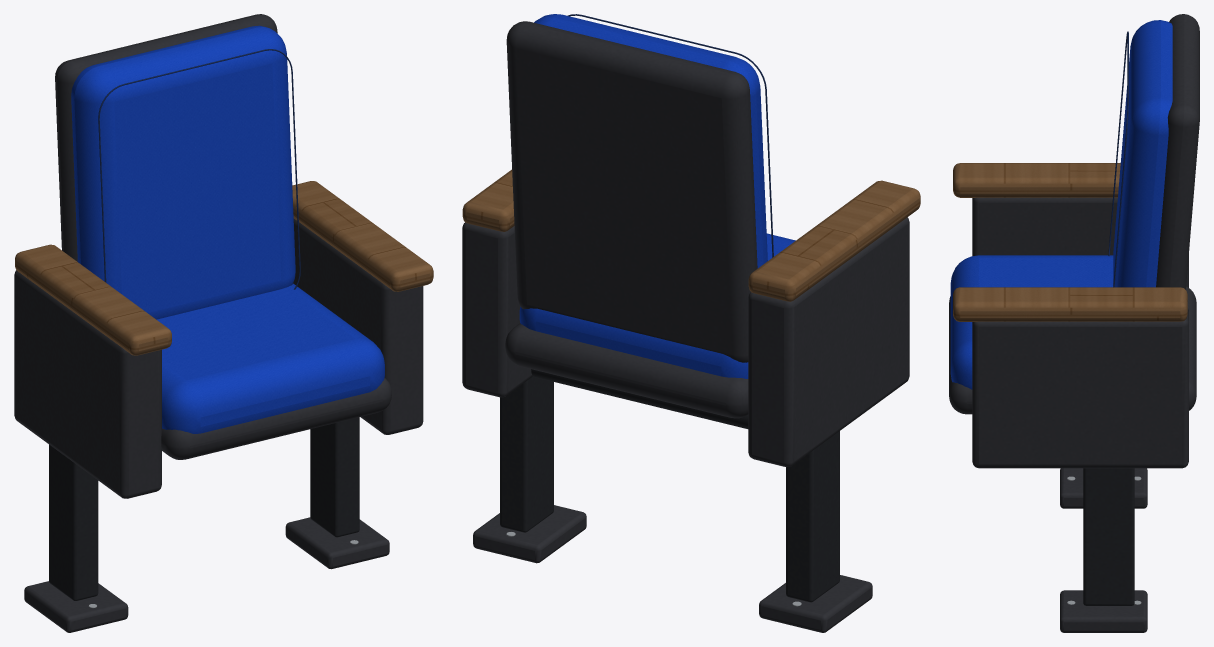
Rendered from 01_auditorium_chair.glb.
The picture shows the model from 3 angles, left to right: view 1: azimuth 30°, elevation 25°; view 2: azimuth 150°, elevation 25°; view 3: azimuth 270°, elevation 25°; orthographic projection. The views are drawn at different scales.
Visible parts, largest first — view 1: 01_auditorium_chair__blue_backrest, 01_auditorium_chair__blue_seat, 01_auditorium_chair__arm_side, 01_auditorium_chair__arm_side.001, 01_auditorium_chair__wood_arm_cap, 01_auditorium_chair__steel_pedestal, 01_auditorium_chair__wood_arm_cap.001, 01_auditorium_chair__back_shell, 01_auditorium_chair__seat_shell, 01_auditorium_chair__steel_pedestal.001, 01_auditorium_chair__mount_foot.001, 01_auditorium_chair__mount_foot (+1 smaller); view 2: 01_auditorium_chair__back_shell, 01_auditorium_chair__arm_side, 01_auditorium_chair__seat_shell, 01_auditorium_chair__arm_side.001, 01_auditorium_chair__wood_arm_cap, 01_auditorium_chair__steel_pedestal, 01_auditorium_chair__steel_pedestal.001, 01_auditorium_chair__blue_seat, 01_auditorium_chair__blue_backrest, 01_auditorium_chair__mount_foot.001, 01_auditorium_chair__mount_foot, 01_auditorium_chair__wood_arm_cap.001 (+2 smaller); view 3: 01_auditorium_chair__arm_side.001, 01_auditorium_chair__blue_backrest, 01_auditorium_chair__arm_side, 01_auditorium_chair__wood_arm_cap.001, 01_auditorium_chair__back_shell, 01_auditorium_chair__steel_pedestal.001, 01_auditorium_chair__blue_seat, 01_auditorium_chair__wood_arm_cap, 01_auditorium_chair__mount_foot.001, 01_auditorium_chair__seat_shell, 01_auditorium_chair__mount_foot, 01_auditorium_chair__backrest_seam.
Boxes of the visible parts, left/top/right/bottom form: 01_auditorium_chair__blue_backrest: left=71, top=25, right=295, bottom=319; 01_auditorium_chair__blue_seat: left=157, top=283, right=384, bottom=433; 01_auditorium_chair__arm_side: left=14, top=270, right=161, bottom=498; 01_auditorium_chair__arm_side.001: left=293, top=218, right=423, bottom=434; 01_auditorium_chair__wood_arm_cap: left=15, top=244, right=171, bottom=355; 01_auditorium_chair__steel_pedestal: left=49, top=444, right=98, bottom=600; 01_auditorium_chair__wood_arm_cap.001: left=292, top=181, right=433, bottom=291; 01_auditorium_chair__back_shell: left=55, top=14, right=277, bottom=261; 01_auditorium_chair__seat_shell: left=161, top=378, right=391, bottom=459; 01_auditorium_chair__steel_pedestal.001: left=310, top=417, right=359, bottom=537; 01_auditorium_chair__mount_foot.001: left=285, top=517, right=389, bottom=569; 01_auditorium_chair__mount_foot: left=24, top=581, right=128, bottom=632; 01_auditorium_chair__back_shell: left=506, top=21, right=757, bottom=362; 01_auditorium_chair__arm_side: left=748, top=217, right=909, bottom=467; 01_auditorium_chair__seat_shell: left=505, top=323, right=748, bottom=418; 01_auditorium_chair__arm_side.001: left=462, top=222, right=532, bottom=397; 01_auditorium_chair__wood_arm_cap: left=748, top=180, right=920, bottom=301; 01_auditorium_chair__steel_pedestal: left=786, top=431, right=839, bottom=602; 01_auditorium_chair__steel_pedestal.001: left=500, top=377, right=553, bottom=532; 01_auditorium_chair__blue_seat: left=519, top=233, right=795, bottom=378; 01_auditorium_chair__blue_backrest: left=534, top=14, right=767, bottom=268; 01_auditorium_chair__mount_foot.001: left=473, top=505, right=586, bottom=563; 01_auditorium_chair__mount_foot: left=759, top=575, right=872, bottom=632; 01_auditorium_chair__wood_arm_cap.001: left=462, top=169, right=514, bottom=231; 01_auditorium_chair__arm_side.001: left=972, top=307, right=1188, bottom=468; 01_auditorium_chair__blue_backrest: left=1113, top=20, right=1172, bottom=287; 01_auditorium_chair__arm_side: left=972, top=197, right=1188, bottom=287; 01_auditorium_chair__wood_arm_cap.001: left=953, top=287, right=1187, bottom=321; 01_auditorium_chair__back_shell: left=1156, top=14, right=1199, bottom=289; 01_auditorium_chair__steel_pedestal.001: left=1083, top=468, right=1134, bottom=605; 01_auditorium_chair__blue_seat: left=950, top=255, right=1113, bottom=389; 01_auditorium_chair__wood_arm_cap: left=953, top=163, right=1120, bottom=197; 01_auditorium_chair__mount_foot.001: left=1060, top=590, right=1147, bottom=632; 01_auditorium_chair__seat_shell: left=949, top=286, right=1196, bottom=414; 01_auditorium_chair__mount_foot: left=1060, top=468, right=1147, bottom=508; 01_auditorium_chair__backrest_seam: left=1108, top=31, right=1128, bottom=287.
Bounding box in the file's own units: 0.705 × 1.06 × 0.4863.
6 materials, 6 textured.
